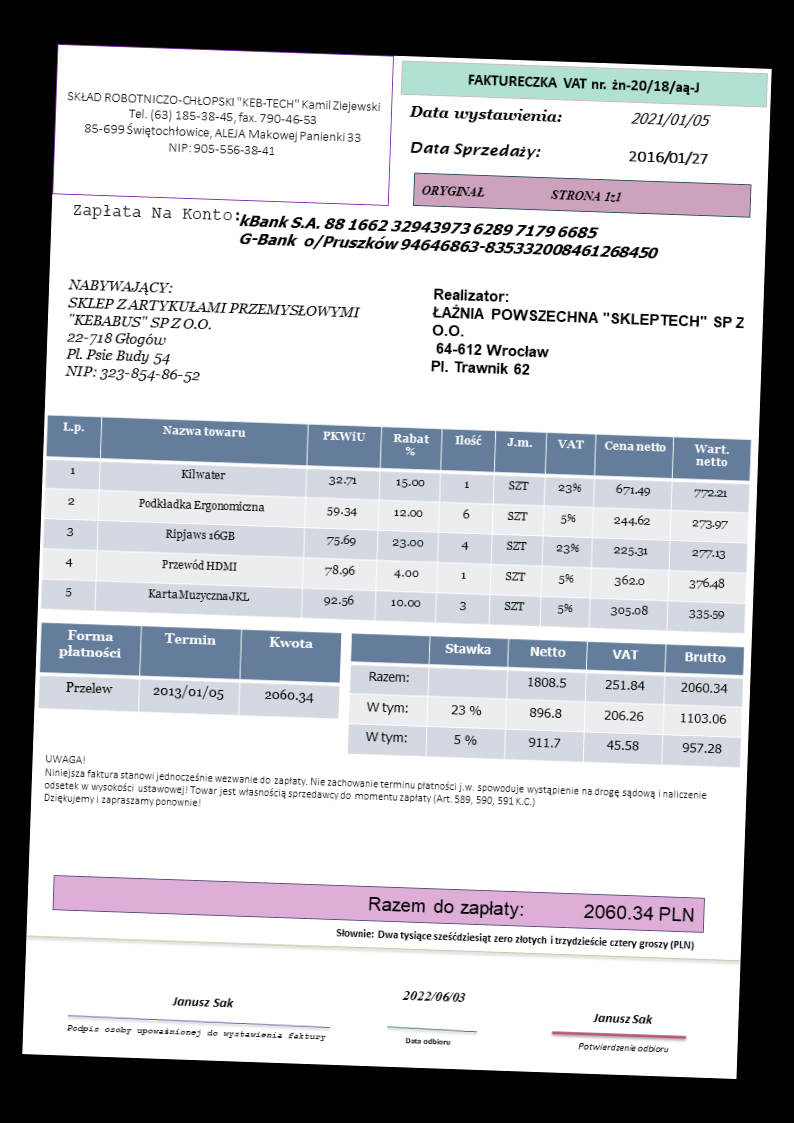Table: (39, 412, 753, 636), (346, 631, 747, 770), (37, 620, 341, 719)
TextBox: (42, 751, 710, 828), (63, 275, 364, 393), (427, 287, 750, 390), (63, 86, 384, 167), (238, 213, 663, 262), (366, 893, 696, 926), (333, 925, 698, 953), (464, 68, 702, 98), (63, 1023, 327, 1044), (420, 182, 625, 207), (407, 101, 562, 131), (70, 201, 242, 225), (406, 138, 543, 164), (629, 108, 713, 133), (626, 146, 709, 168), (168, 992, 236, 1013), (575, 1041, 672, 1055), (400, 988, 468, 1005), (590, 1011, 655, 1027), (402, 1035, 454, 1048)
